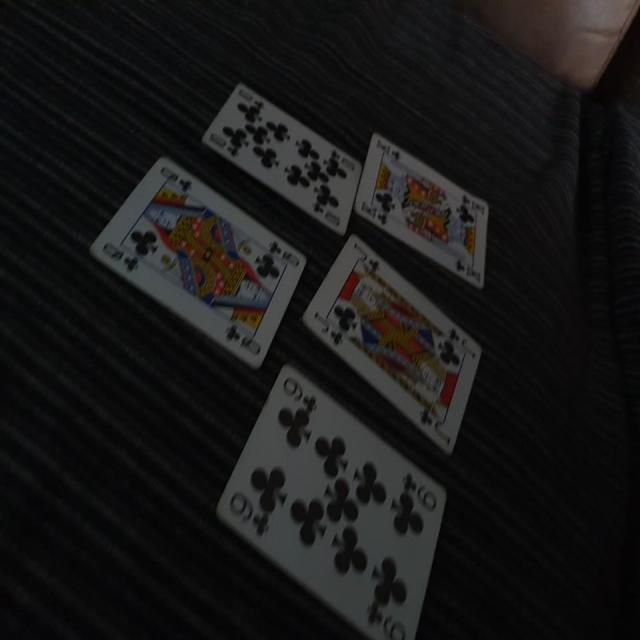10 Trefoils: (200, 82, 361, 236)
9 Trefoils: (213, 365, 449, 640)
J Trefoils: (299, 234, 482, 453)
K Trefoils: (355, 134, 489, 292)
Q Trefoils: (86, 152, 307, 372)
